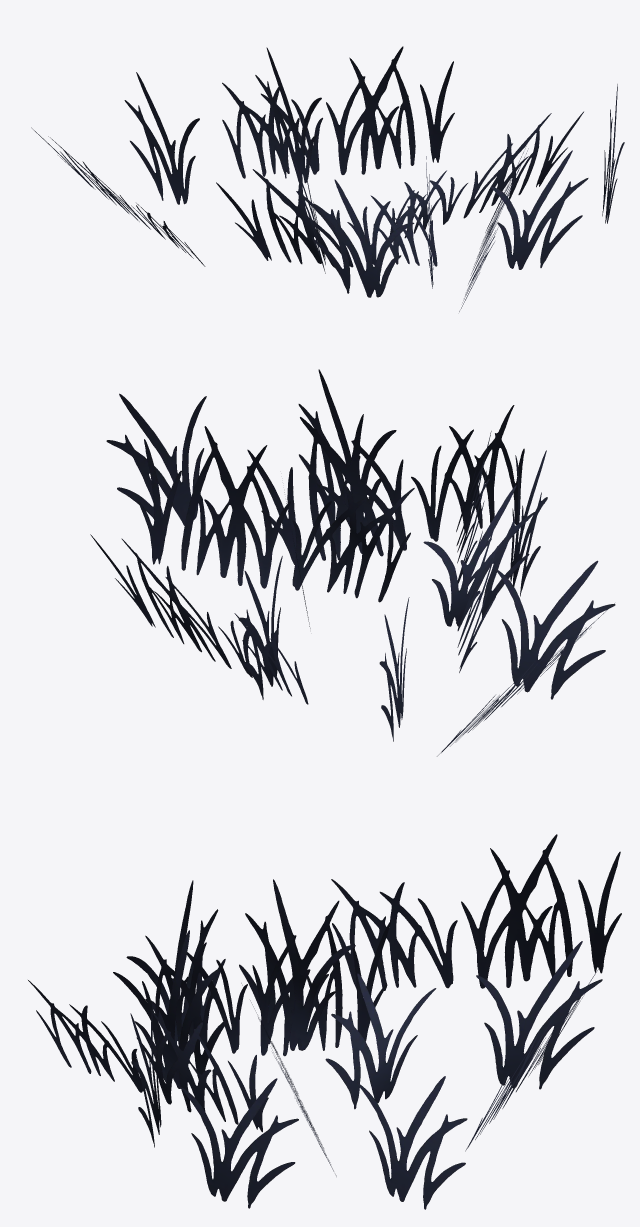
3 renders of one model, top to bottom at view 1: azimuth 30°, elevation 25°; view 2: azimuth 150°, elevation 25°; view 3: azimuth 270°, elevation 25°, orthographic. The views are drawn at different scales.
Visible parts, largest first — view 1: SM_WT_GrassShort_05_LOD0; view 2: SM_WT_GrassShort_05_LOD0; view 3: SM_WT_GrassShort_05_LOD0.
Boxes of the visible parts, <box> form: SM_WT_GrassShort_05_LOD0: <box>31,46,624,311</box>; SM_WT_GrassShort_05_LOD0: <box>90,369,615,756</box>; SM_WT_GrassShort_05_LOD0: <box>28,834,621,1209</box>.
Bounding box in the file's own units: 0.9354 × 0.3082 × 0.8525.
Materials: 1 (1 with a texture image).
